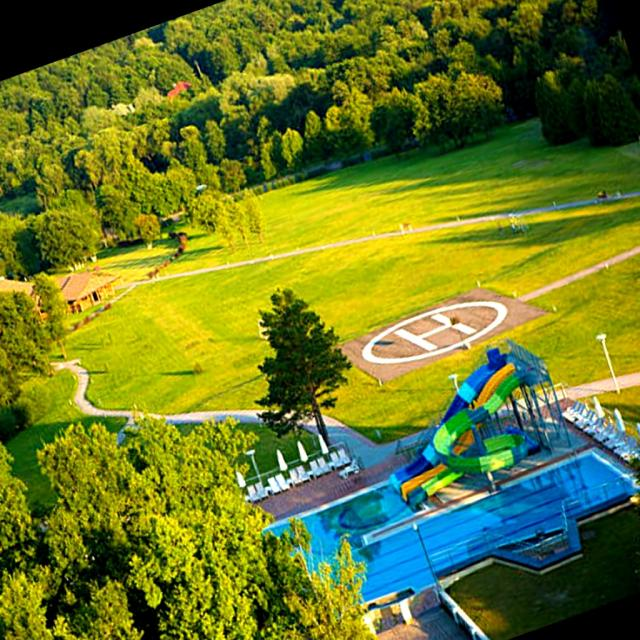helipad: (358, 297, 508, 367)
